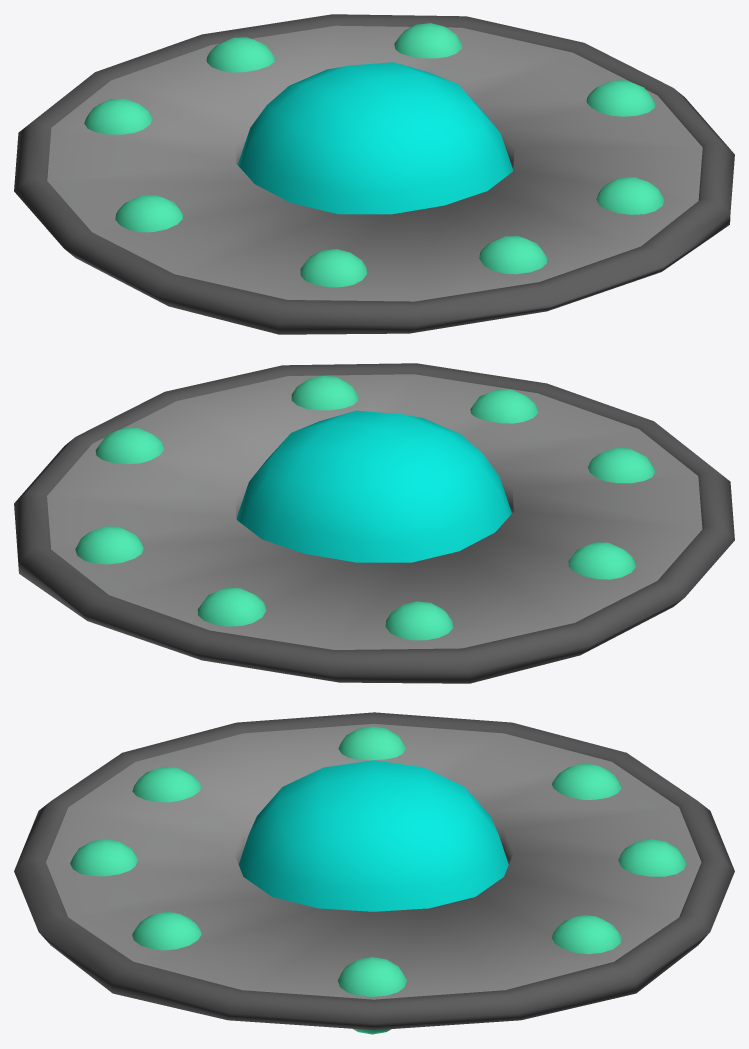
The model's file is ufo.fbx.
3 views of the same model, one above another, from view 1: azimuth 30°, elevation 25°; view 2: azimuth 150°, elevation 25°; view 3: azimuth 270°, elevation 25° (orthographic).
Parts seen in each view (by area): view 1: Cube, Cube.003, Cube.002, Cube.001; view 2: Cube, Cube.003, Cube.002, Cube.001; view 3: Cube, Cube.003, Cube.002, Cube.001.
Part boxes in pixels (left/top/right/bottom): Cube: left=47, top=25, right=702, bottom=301; Cube.003: left=14, top=14, right=734, bottom=334; Cube.002: left=237, top=62, right=512, bottom=214; Cube.001: left=84, top=23, right=664, bottom=287; Cube: left=47, top=374, right=702, bottom=649; Cube.003: left=14, top=363, right=734, bottom=683; Cube.002: left=236, top=410, right=511, bottom=562; Cube.001: left=75, top=375, right=655, bottom=640; Cube: left=46, top=723, right=701, bottom=999; Cube.003: left=14, top=712, right=734, bottom=1030; Cube.002: left=238, top=760, right=508, bottom=911; Cube.001: left=70, top=726, right=686, bottom=1034.
Bounding box in the file's own units: 360 × 83.99 × 360.
